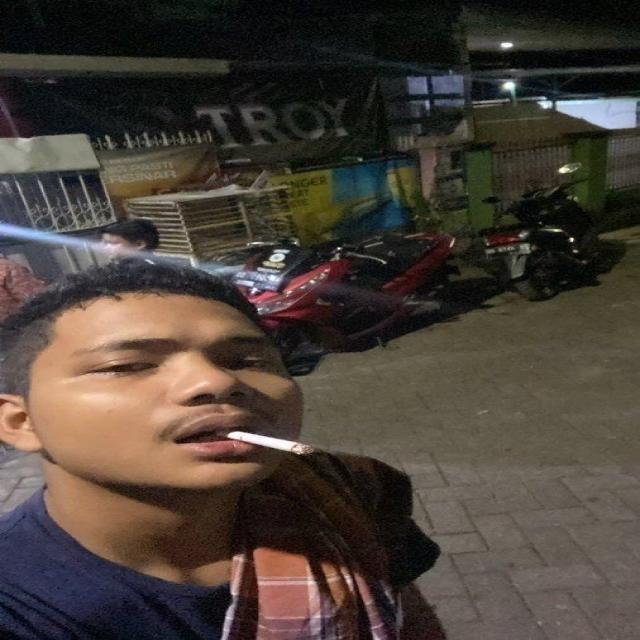rokok: (218, 420, 316, 462)
